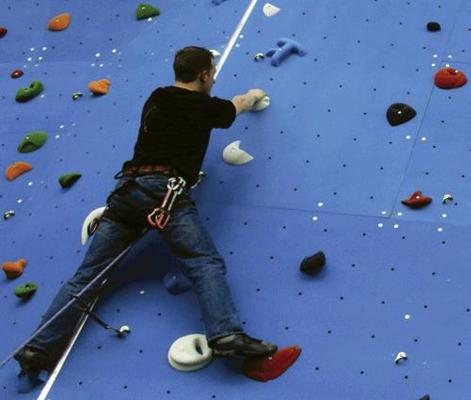person: (14, 44, 280, 370)
